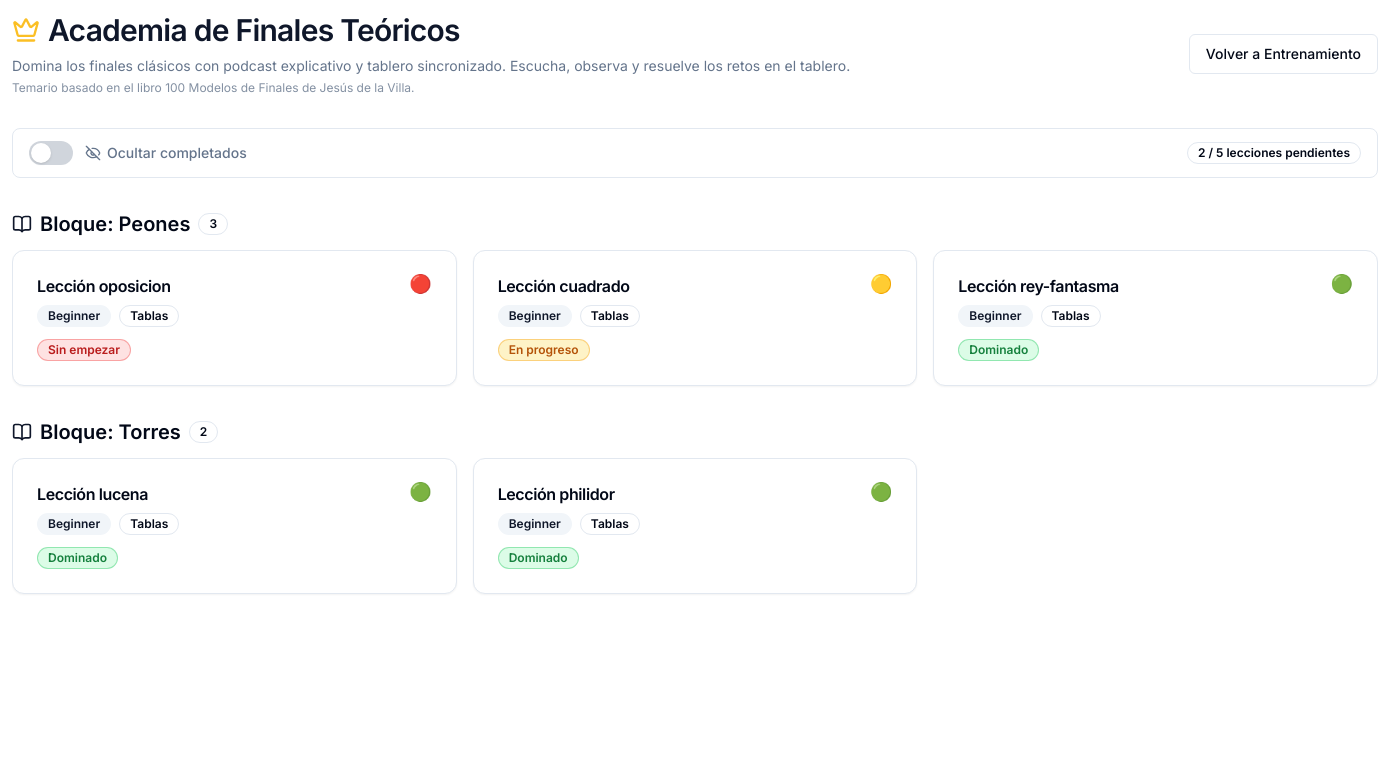
Test case: EndgameCatalogPage — filtro de ocultar completadas › al activar el filtro oculta las dominadas y vacía secciones con mensaje
Check: the heading "Lección oposicion" is shown, box [37,275,171,297]
Click the switch at (51, 153), box [29,141,73,165]
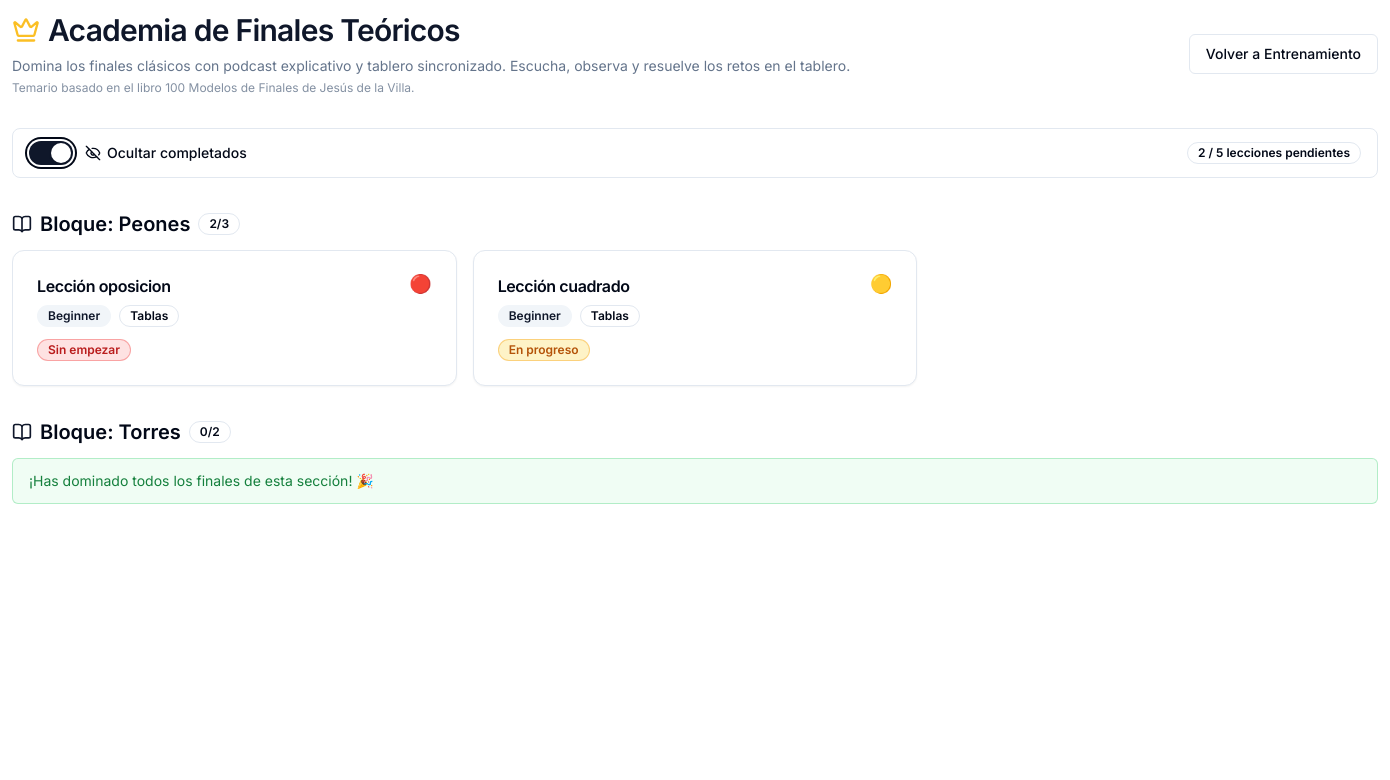
Check: the link "Lección rey-fantasma" is gone
Check: the link "Lección lucena" is gone
Check: the text "¡Has dominado todos los finales de esta sección! 🎉" is shown, box [12,458,1378,504]
